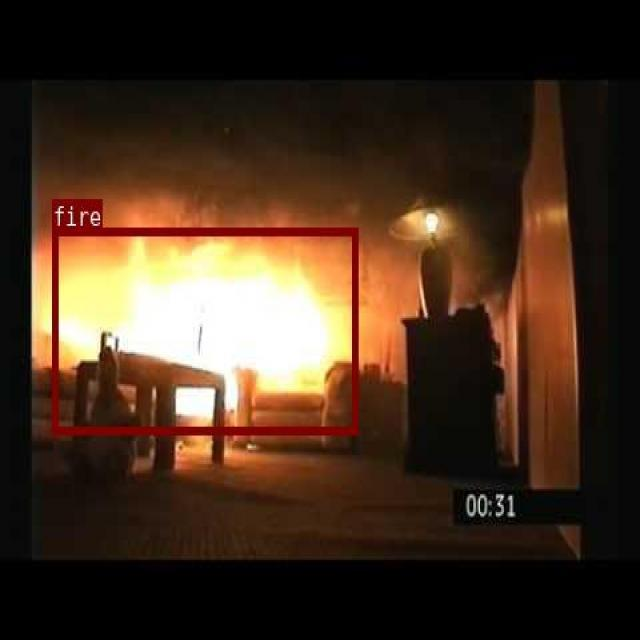fire: (51, 226, 357, 434)
